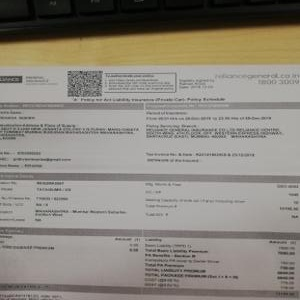table: (1, 225, 300, 297), (1, 102, 298, 174), (1, 174, 298, 234)
text: (177, 77, 214, 90)
